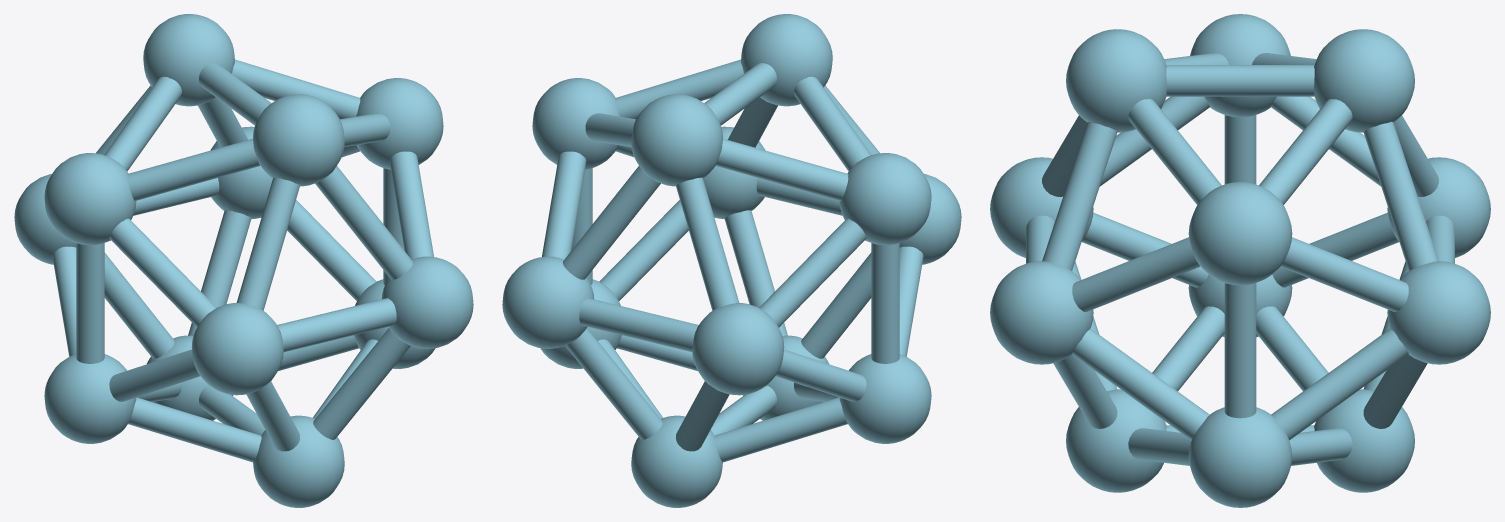
Rendered from yuanzijingti1.FBX.
3 renders of one model, left to right at view 1: azimuth 30°, elevation 25°; view 2: azimuth 150°, elevation 25°; view 3: azimuth 270°, elevation 25°, orthographic. The views are drawn at different scales.
Parts seen in each view (by area): view 1: Y1; view 2: Y1; view 3: Y1.
Boxes of the visible parts, left/top/right/bottom form: Y1: left=14, top=14, right=473, bottom=507; Y1: left=502, top=14, right=961, bottom=507; Y1: left=990, top=14, right=1490, bottom=507.
Bounding box in the file's own units: 36.59 × 36.59 × 36.59.
